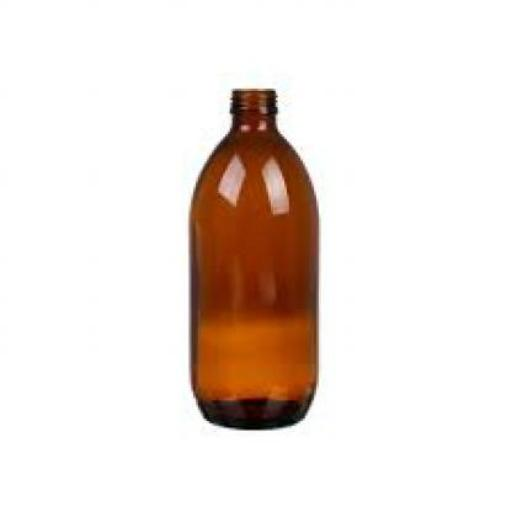glass: (186, 86, 317, 428)
